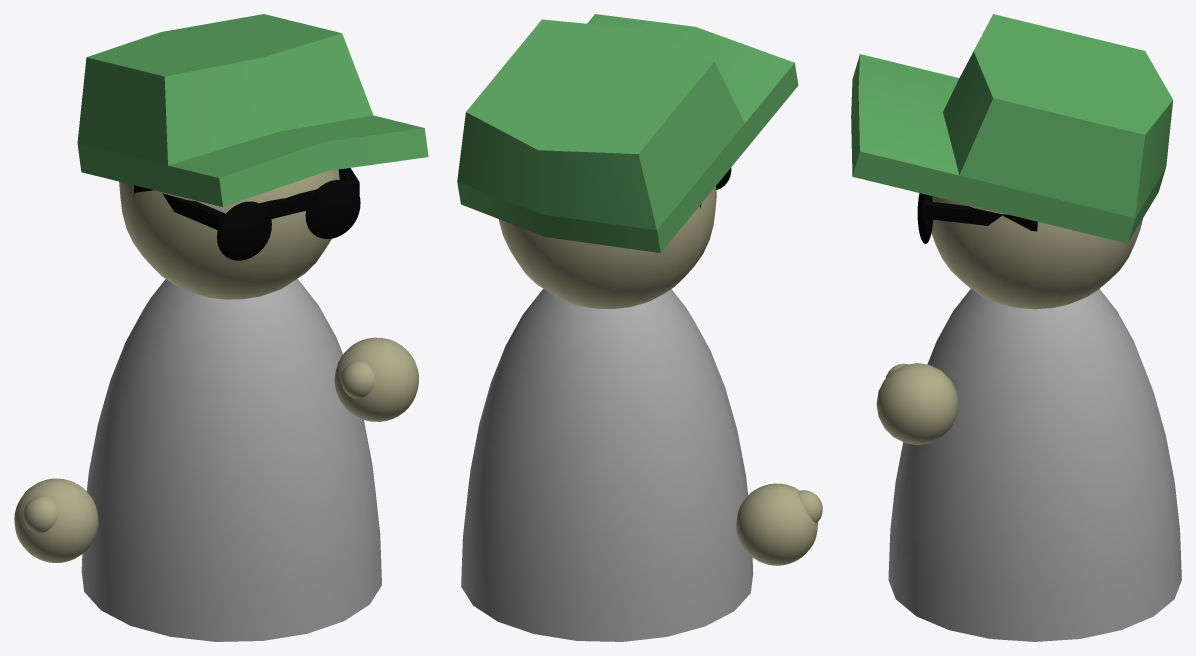
File: PersonPawn_03.fbx
3 views of the same model, side by side, from view 1: azimuth 30°, elevation 25°; view 2: azimuth 150°, elevation 25°; view 3: azimuth 270°, elevation 25° (orthographic). The views are drawn at different scales.
Visible parts, largest first — view 1: pCube39; view 2: pCube39; view 3: pCube39.
Boxes of the visible parts, x1,y1,x2,y2 form: pCube39: [14, 14, 428, 641]; pCube39: [457, 14, 822, 641]; pCube39: [851, 14, 1181, 641].
Size of the model in its own units: 95.28 by 81.84 by 144.
